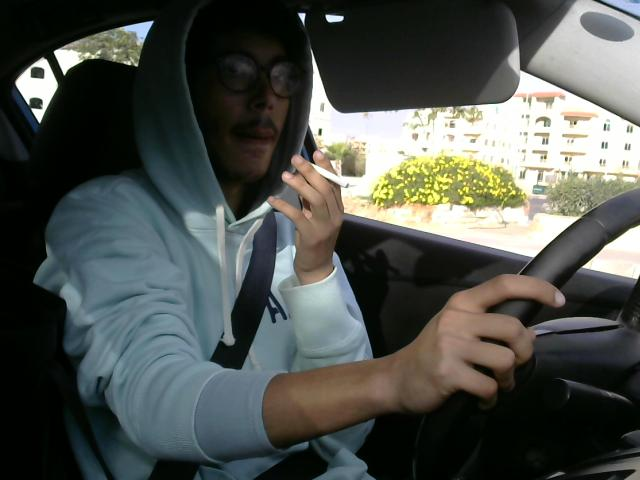Smoking: (292, 153, 355, 195)
